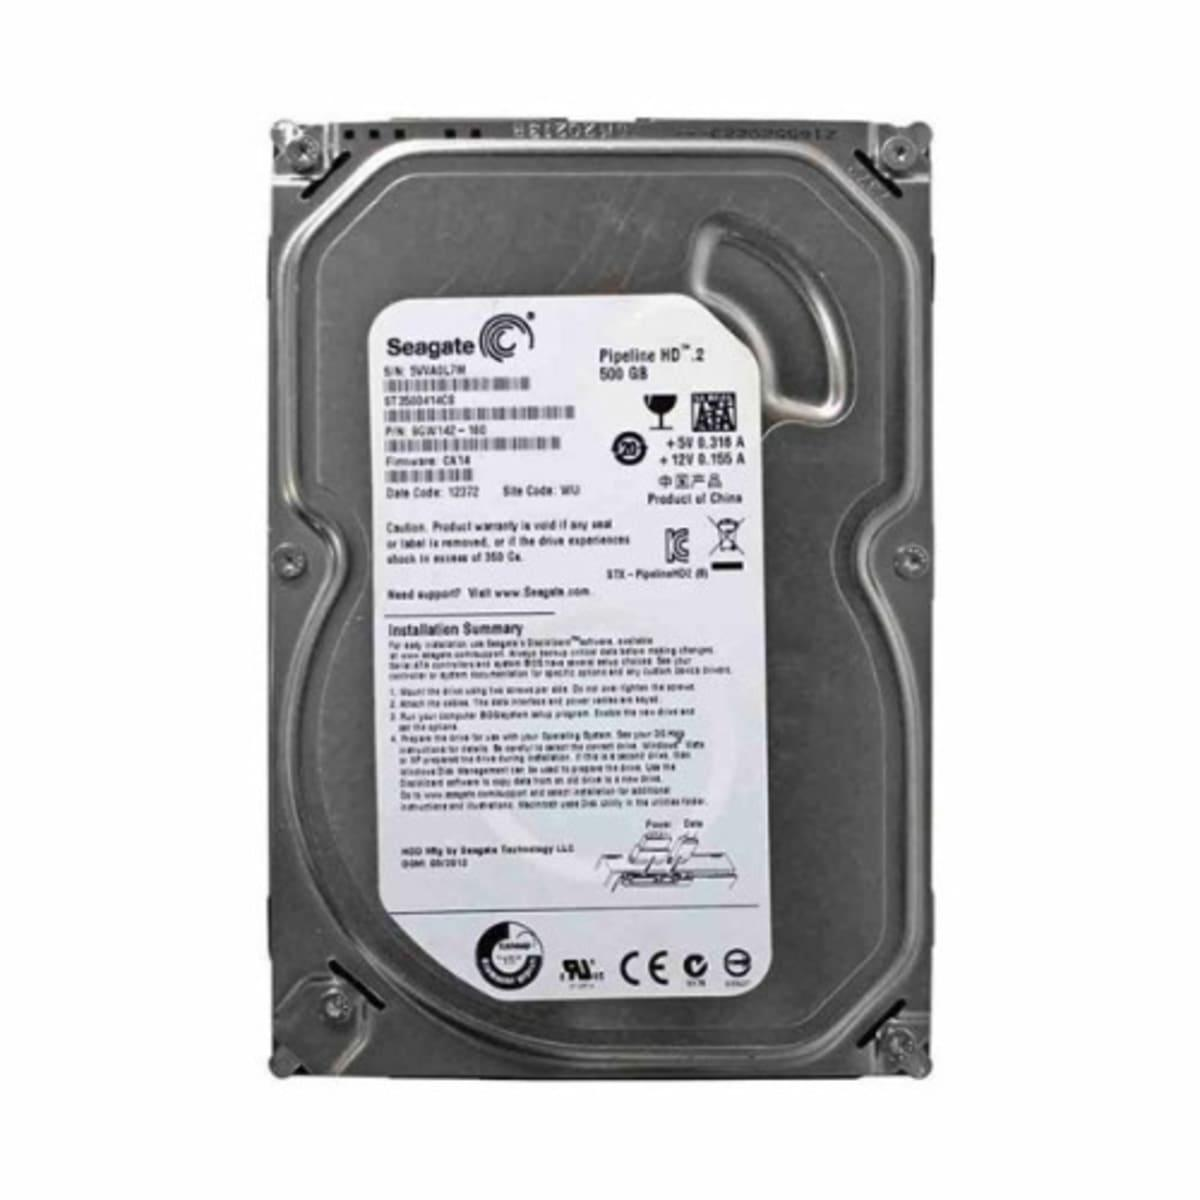internal HDD: (265, 116, 938, 1087)
